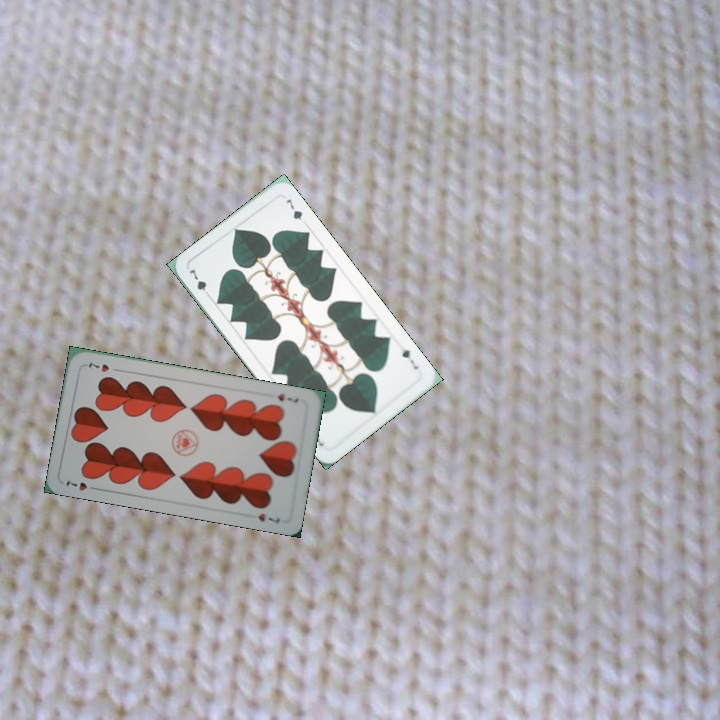G7: (185, 266, 213, 301), (398, 345, 421, 372)
H7: (62, 477, 101, 493), (274, 389, 301, 405)
